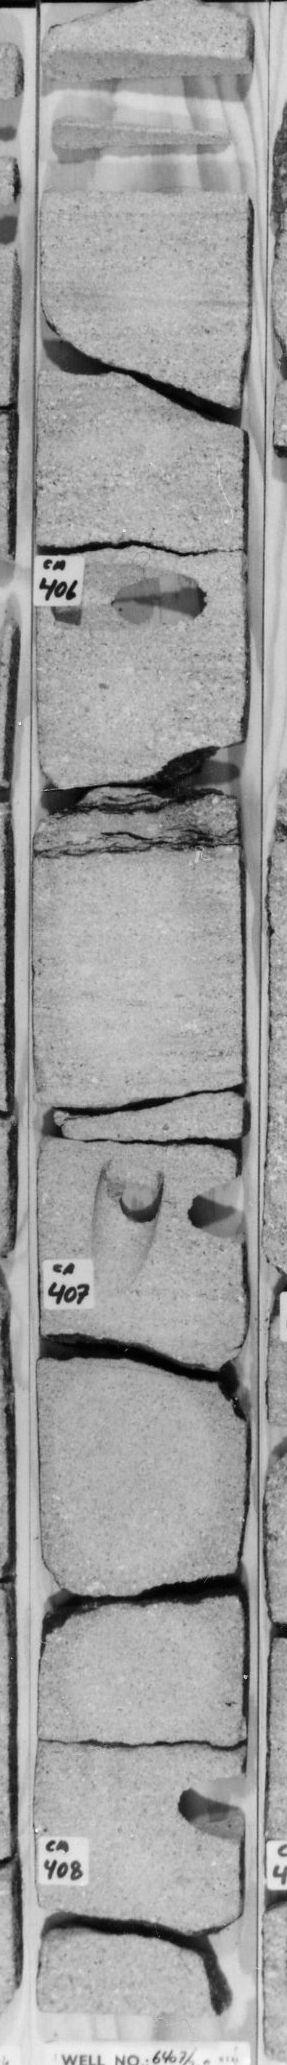hplug: (50, 561, 222, 637), (172, 1773, 241, 1854), (182, 1168, 241, 1248)
scal: (46, 49, 251, 136), (43, 130, 249, 207)
vplug: (86, 1158, 171, 1304)
